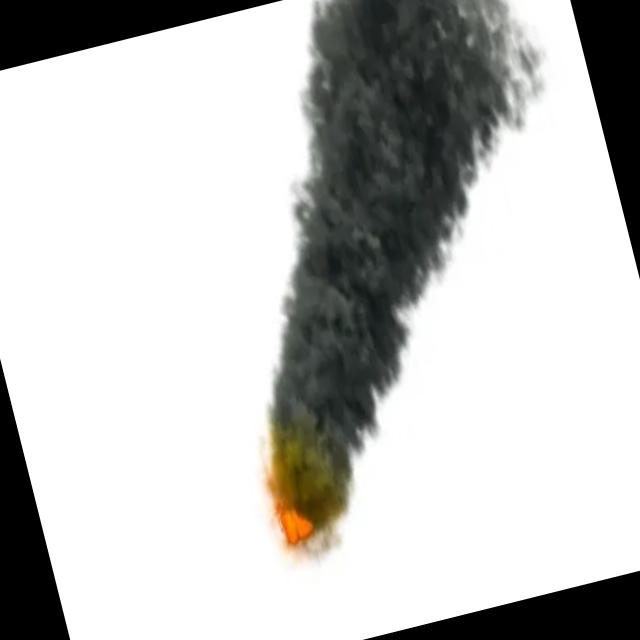Smoke: (153, 0, 640, 555)
